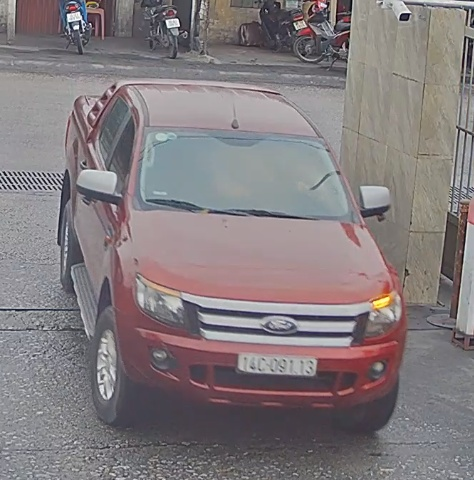vehicle plate: (228, 350, 322, 386)
